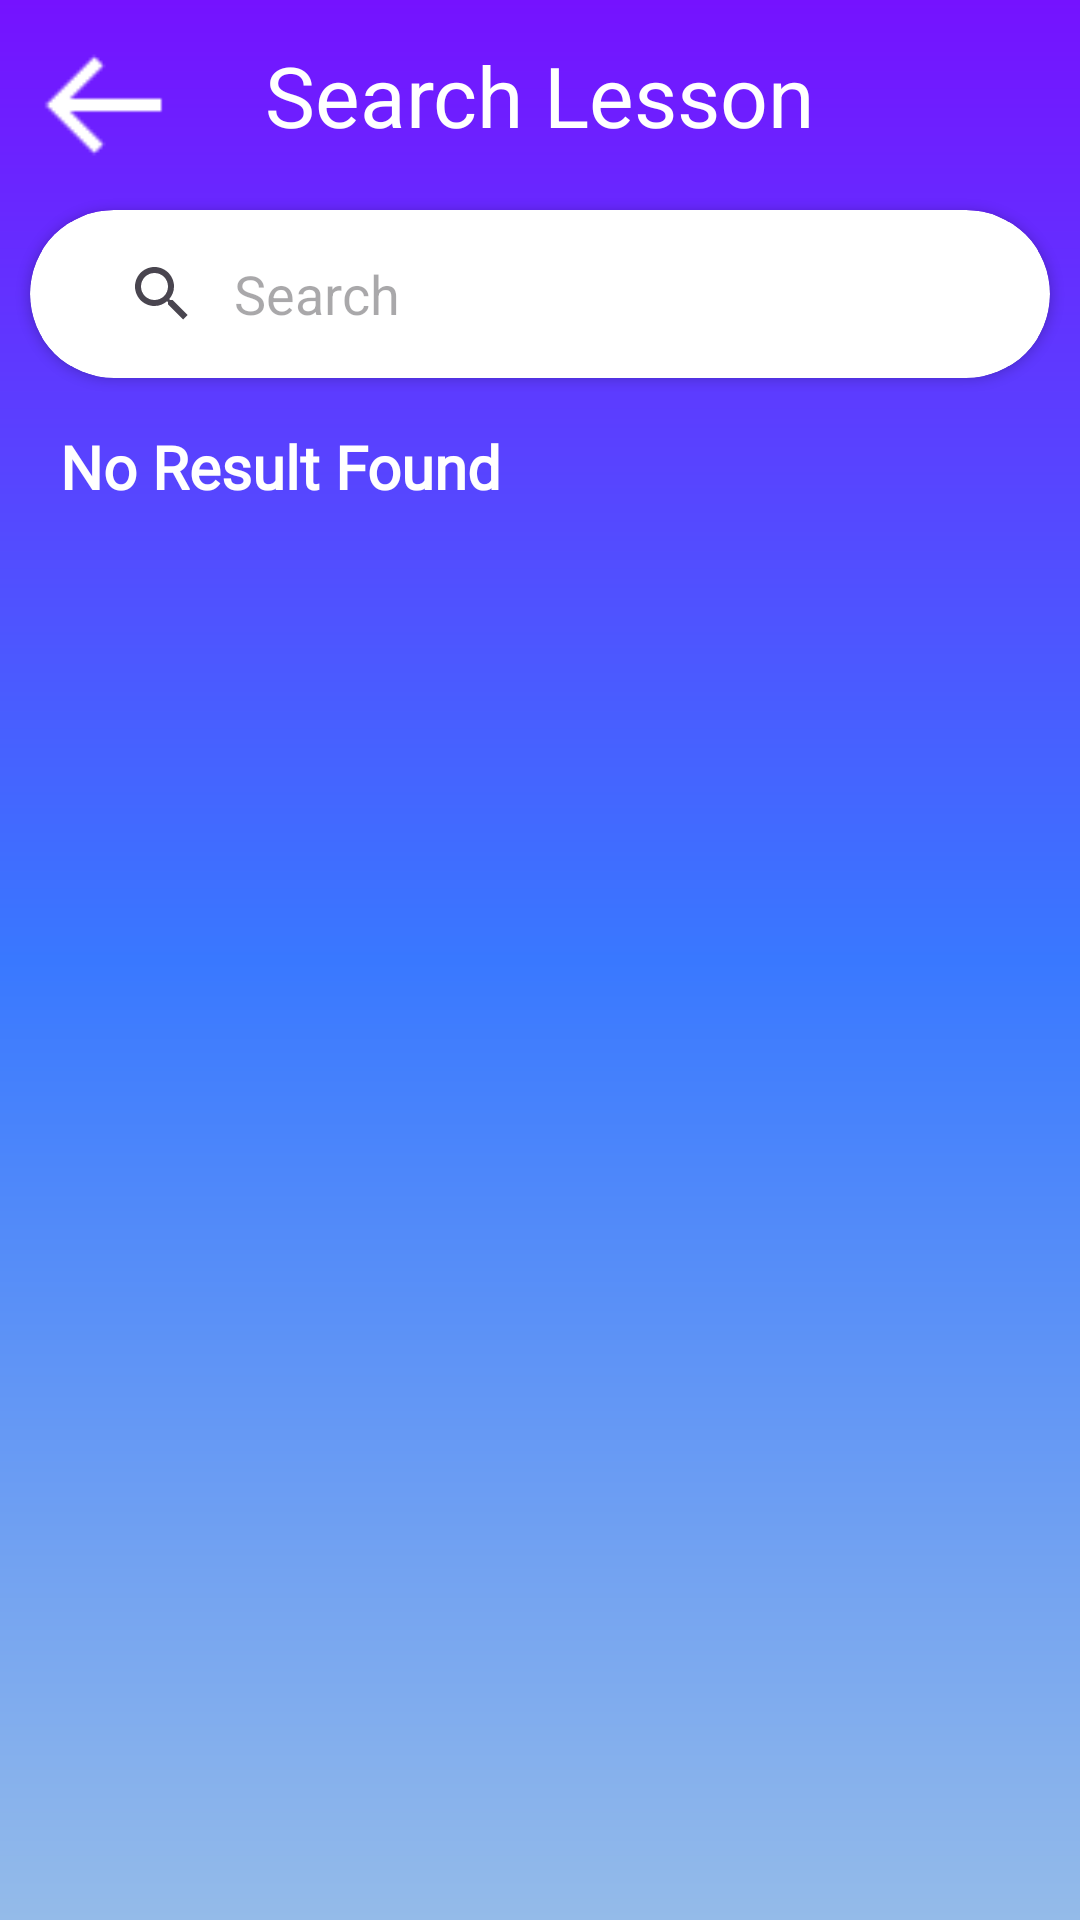

Icon click points for this 1080w x 1920h phone screenshot, format [x,y]:
back: [103,105]
